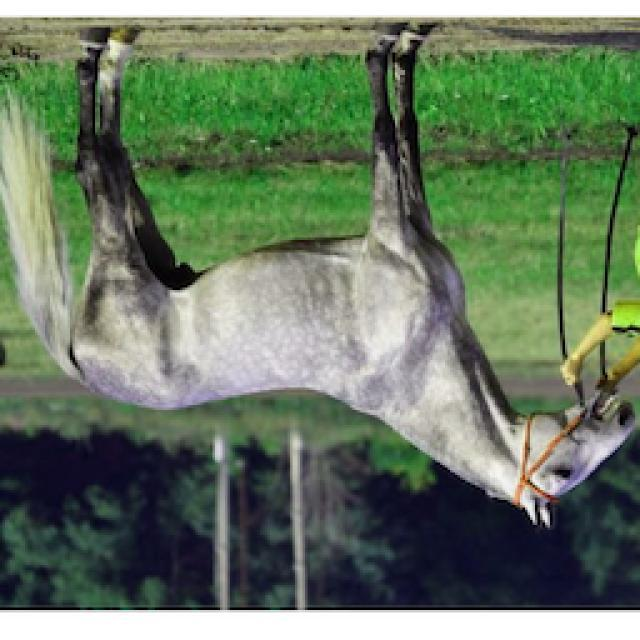Horse: (0, 22, 638, 536)
